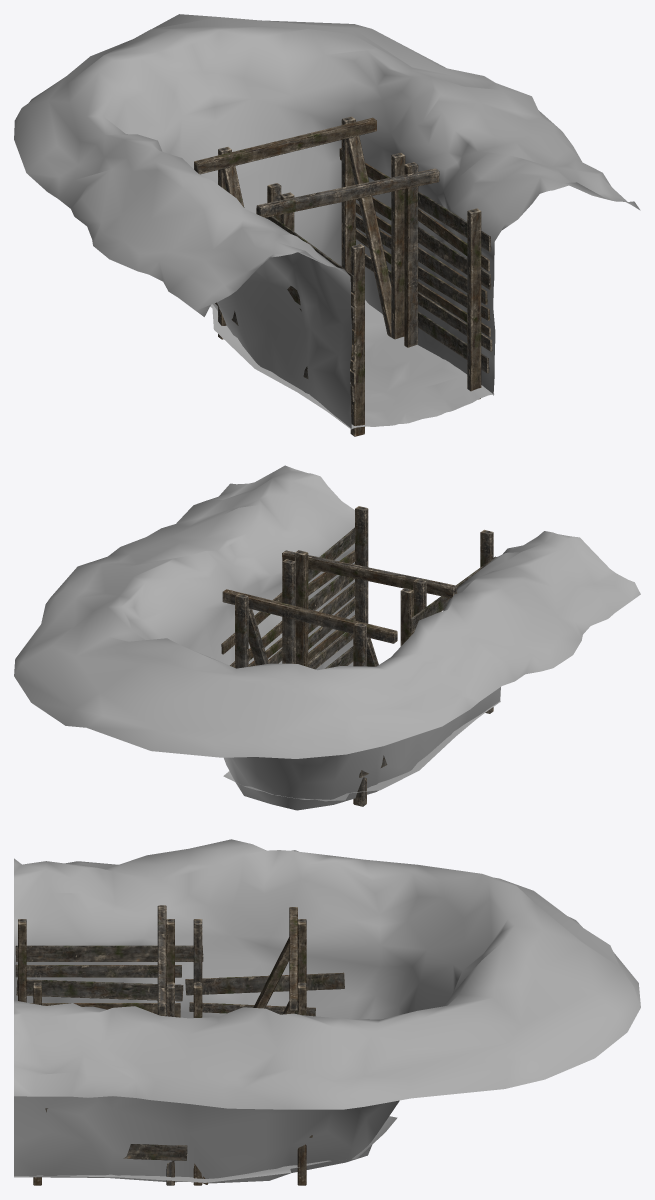
File: Ground_End_Wood.fbx
3 renders of one model, top to bottom at view 1: azimuth 30°, elevation 25°; view 2: azimuth 150°, elevation 25°; view 3: azimuth 270°, elevation 25°, orthographic. The views are drawn at different scales.
Visible parts, largest first — view 1: Ground_End_Wood_LOD0; view 2: Ground_End_Wood_LOD0; view 3: Ground_End_Wood_LOD0.
Part boxes in pixels (x1=…): Ground_End_Wood_LOD0: x1=14, y1=14, x2=640, y2=436; Ground_End_Wood_LOD0: x1=14, y1=465, x2=640, y2=810; Ground_End_Wood_LOD0: x1=14, y1=839, x2=640, y2=1185.
Size of what is drawn, in the model's own units: 660 by 293 by 716.
